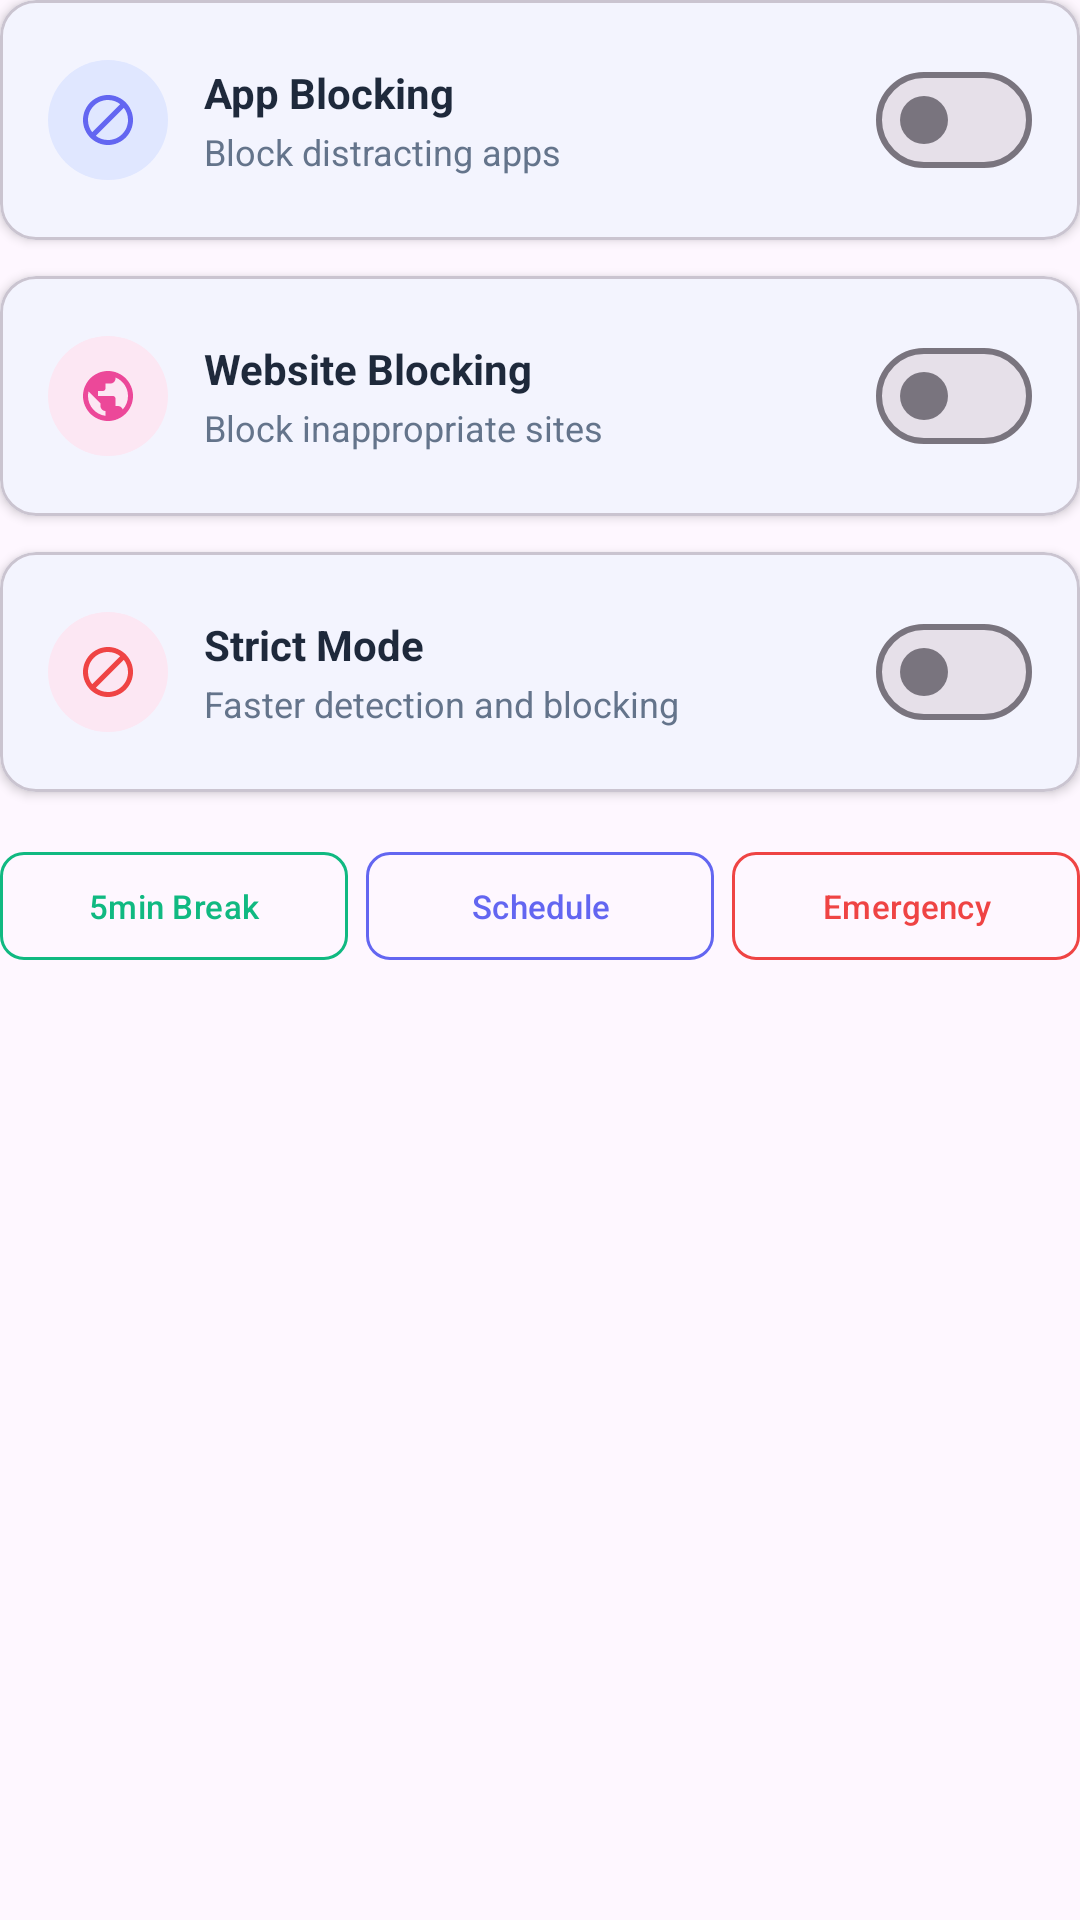

Icons on this 1080w x 1920h Android screen, each with its box as bbox=[x1, y1, x2, y2]:
web: bbox=[83, 371, 133, 421]
